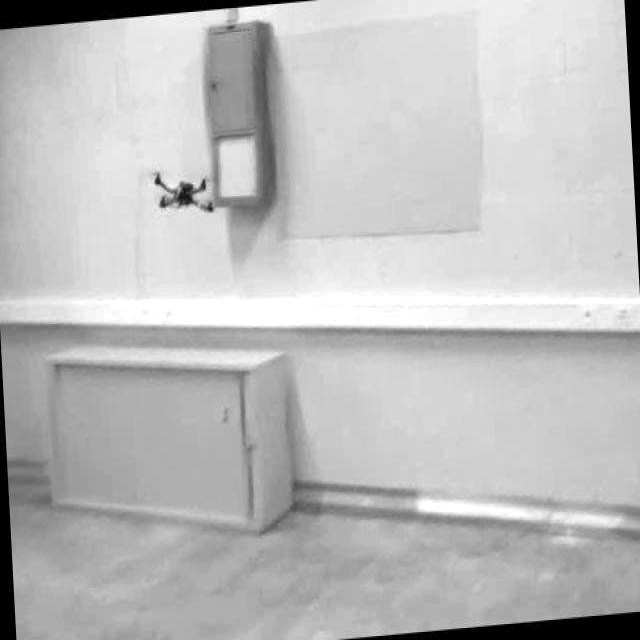drone: (148, 156, 220, 222)
